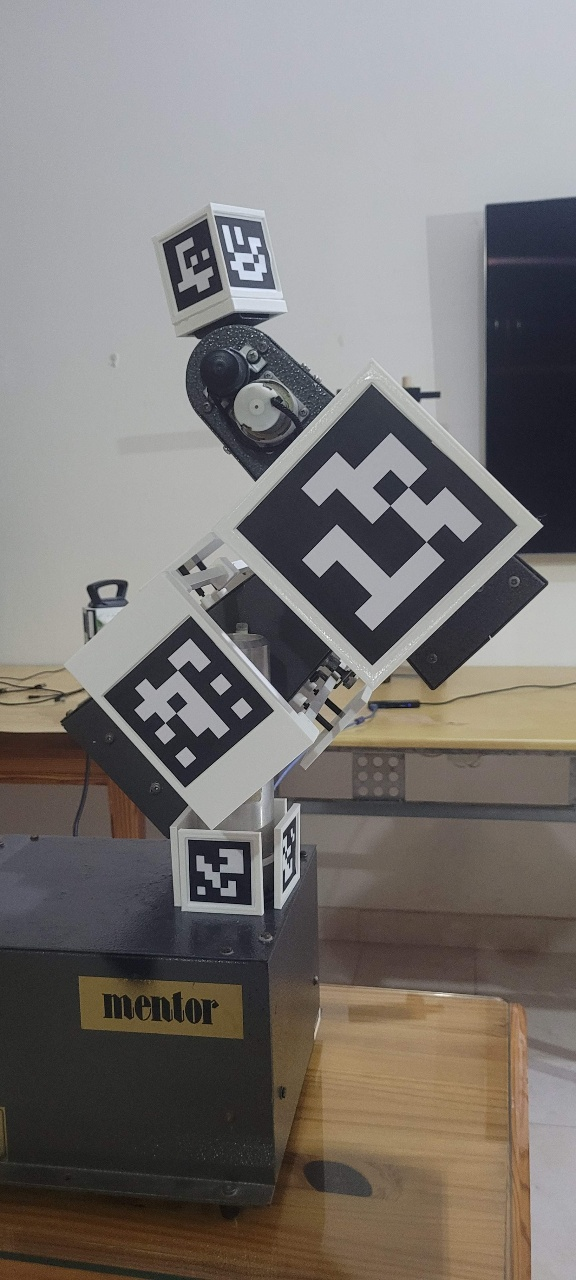Robot: (59, 200, 552, 917)
